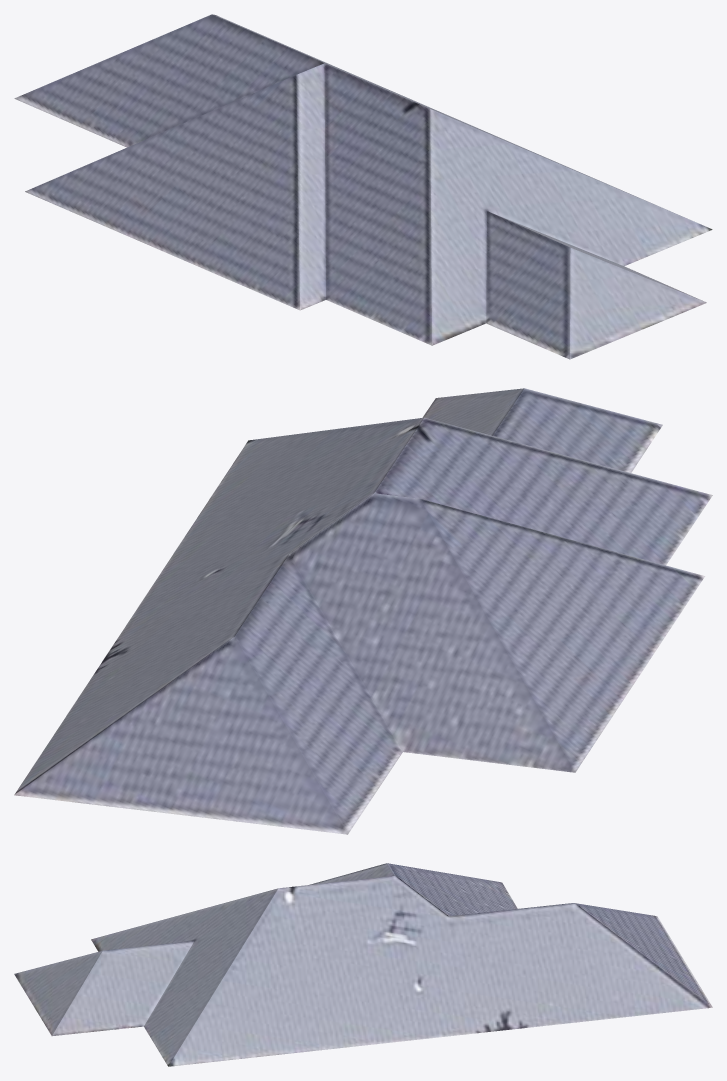
Rendered from BK39_500_014026_0058_roof.obj.
3 renders of one model, top to bottom at view 1: azimuth 30°, elevation 25°; view 2: azimuth 150°, elevation 25°; view 3: azimuth 270°, elevation 25°, orthographic. The views are drawn at different scales.
Parts seen in each view (by area): view 1: BK39_500_014026_0058_roof; view 2: BK39_500_014026_0058_roof; view 3: BK39_500_014026_0058_roof.
Part boxes in pixels (x1,y1,x2,y2): BK39_500_014026_0058_roof: (14, 14, 712, 359); BK39_500_014026_0058_roof: (14, 388, 712, 834); BK39_500_014026_0058_roof: (14, 863, 712, 1066).
Bounding box in the file's own units: 288 × 70 × 461.
1 material, 1 textured.
